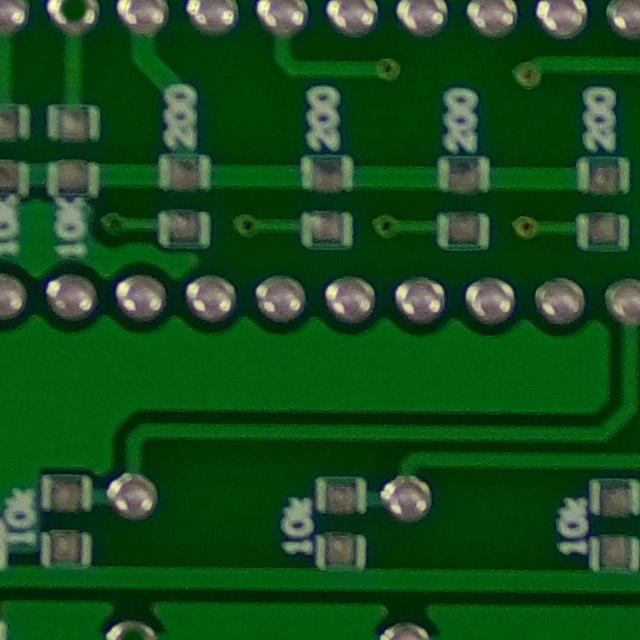missing_hole: (42, 0, 107, 42)
